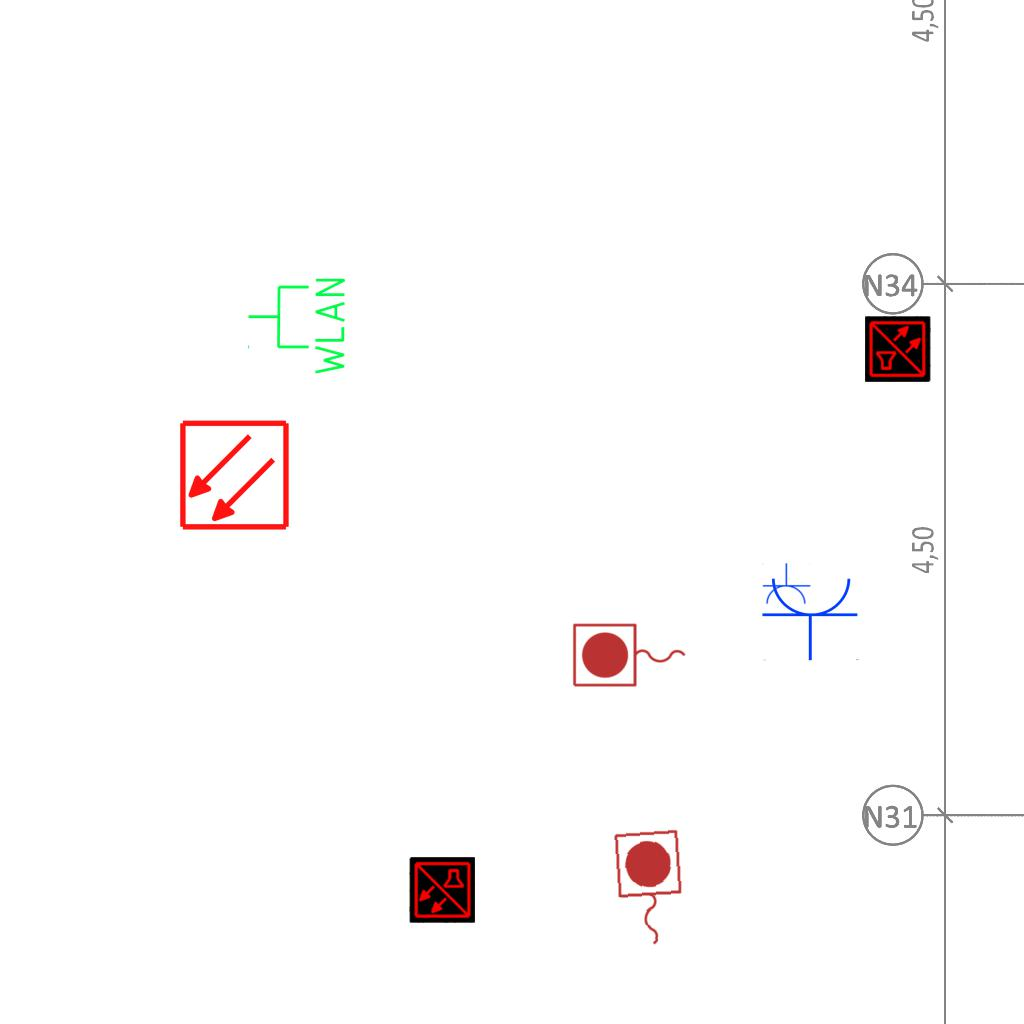OKW_Multisensormelder_(Kombination_optischer_Rauch-Kahlenmonoxid_Waerme-Melder): (865, 316, 931, 382), (409, 857, 475, 923)
RMO_Rauchmelder_optischer: (178, 419, 291, 532)
Schukosteckdose_einfach: (761, 574, 861, 661), (761, 563, 811, 606)
WLAN: (245, 274, 349, 379)
Zugtaster: (608, 825, 690, 953), (569, 620, 691, 692)
